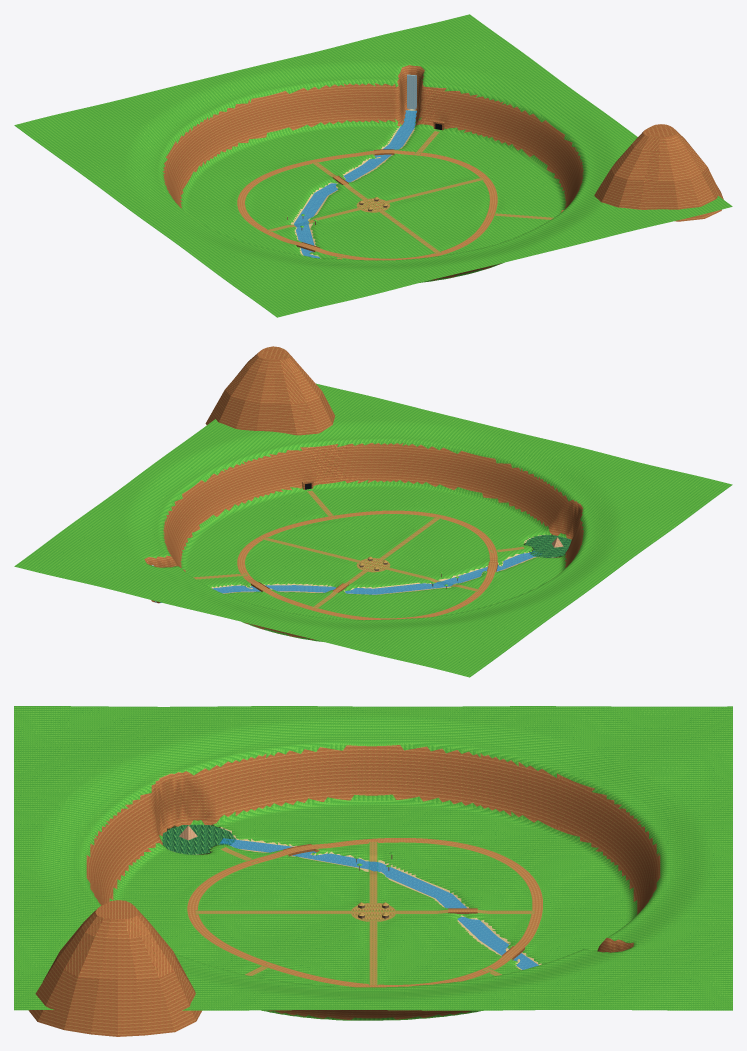
3 views of the same model, one above another, from view 1: azimuth 30°, elevation 25°; view 2: azimuth 150°, elevation 25°; view 3: azimuth 270°, elevation 25° (orthographic). The views are drawn at different scales.
Parts seen in each view (by area): view 1: Valley, Volcano, River; view 2: Valley, Volcano, River, Bog; view 3: Valley, Volcano, River, Bog, Road 08 road, Road 06 road, Road 10 road, Road 05 road, Road 09 road, Road 04 road, Spoke South, Spoke East (+2 smaller).
Part boxes in pixels (box(x1,y1,x2,y2)): Valley: box(14, 14, 732, 317); Volcano: box(594, 124, 723, 221); River: box(294, 110, 416, 258); Valley: box(14, 383, 732, 677); Volcano: box(205, 346, 334, 435); River: box(160, 551, 541, 602); Bog: box(525, 534, 571, 557); Valley: box(14, 706, 732, 1020); Volcano: box(28, 900, 201, 1036); River: box(219, 838, 538, 969); Bog: box(162, 824, 236, 854); Road 08 road: box(188, 850, 288, 900); Road 06 road: box(311, 837, 453, 849); Road 10 road: box(241, 954, 373, 987); Road 05 road: box(450, 841, 541, 889); Road 09 road: box(186, 899, 249, 958); Road 04 road: box(513, 889, 544, 947); Spoke South: box(195, 910, 351, 914); Spoke East: box(368, 921, 378, 985).
Size of the model in its own units: 981 by 193 by 940.
16 materials, 16 textured.
